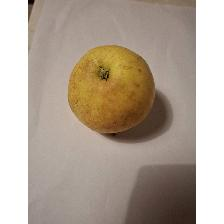Apfel: (65, 42, 157, 136)
